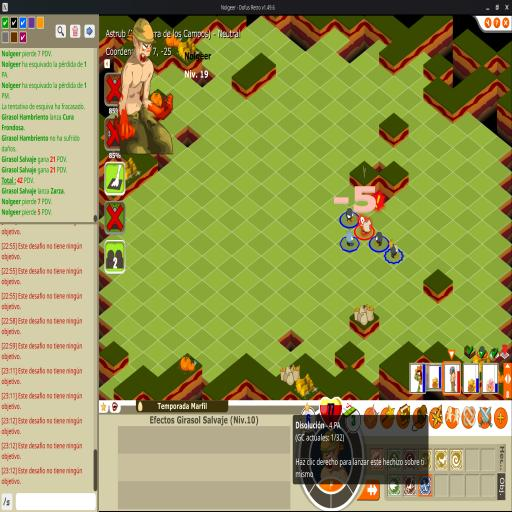Enemigos: (389, 238, 399, 260), (345, 207, 356, 225), (345, 229, 356, 247), (374, 231, 384, 247)
Personaje: (360, 216, 373, 236)
